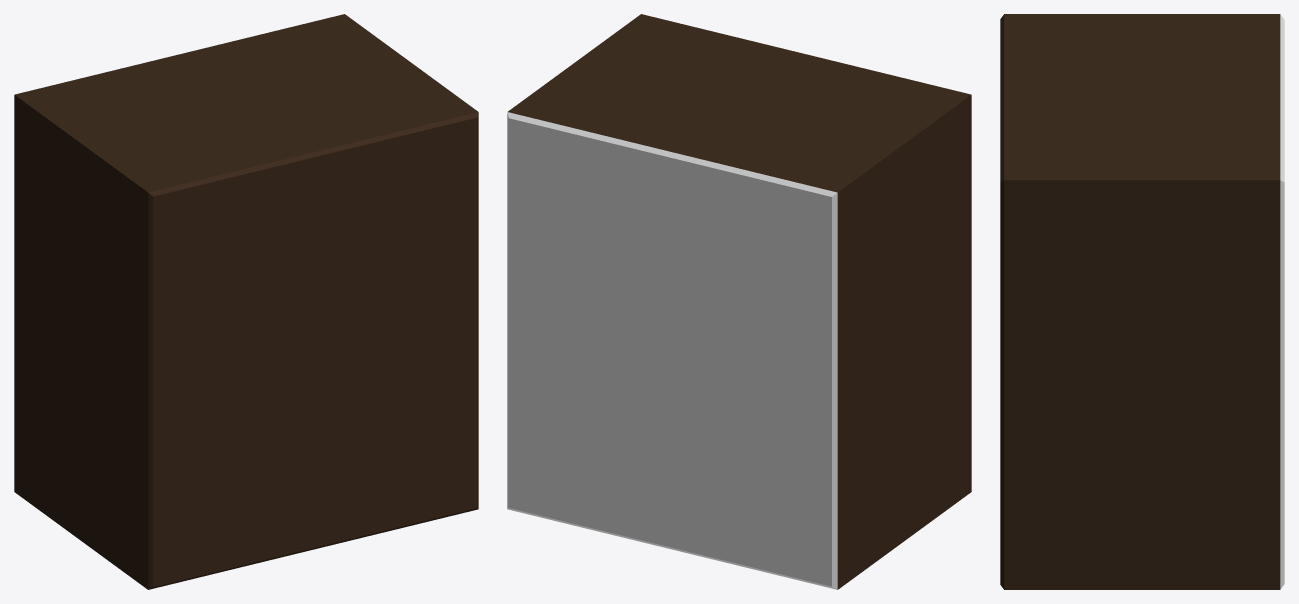
The model's file is Wall_Button.fbx.
The picture shows the model from 3 angles, left to right: view 1: azimuth 30°, elevation 25°; view 2: azimuth 150°, elevation 25°; view 3: azimuth 270°, elevation 25°; orthographic projection. The views are drawn at different scales.
Parts seen in each view (by area): view 1: Cube.180; view 2: Cube.180; view 3: Cube.180.
Part boxes in pixels (x1=…): Cube.180: x1=14, y1=14, x2=478, y2=589; Cube.180: x1=507, y1=14, x2=971, y2=589; Cube.180: x1=1000, y1=14, x2=1284, y2=589.
Size of the model in its own units: 0.1444 by 0.1999 by 0.2297.
